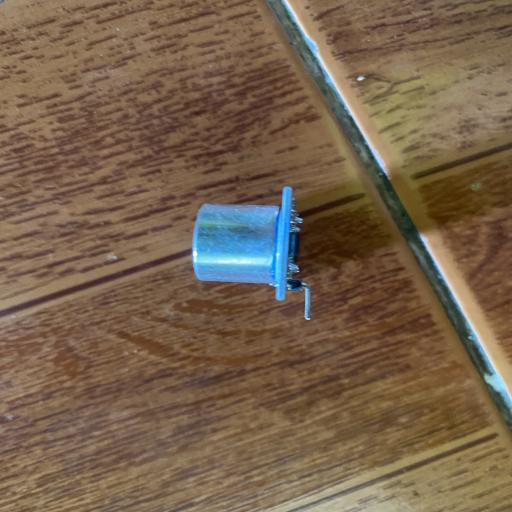Ultrasonic Sensor: (191, 186, 312, 320)
